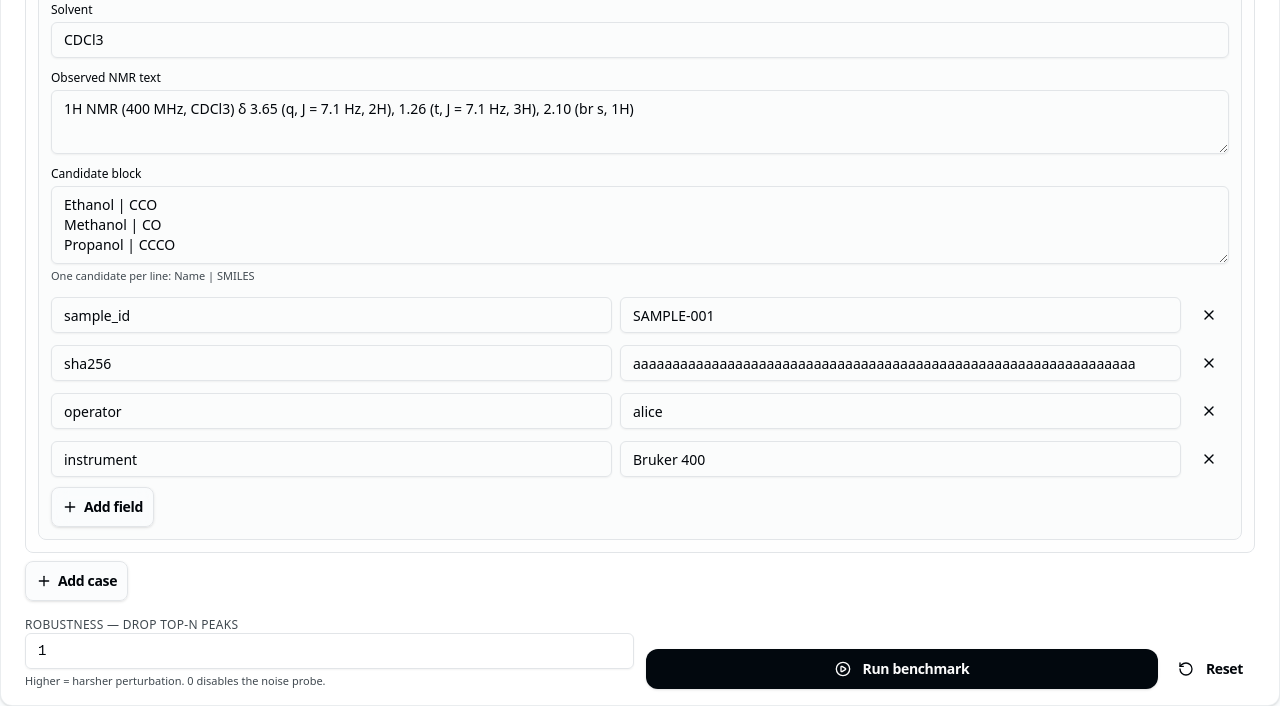
Test case: SpectraCheckBenchmarkSection › surfaces backend errors via the error alert
The width and height of the screenshot is (1280, 706).
(page scrolled)
Click the button with test id "benchmark-run-button" at [902, 669], box [646,649,1158,689]
(page scrolled)
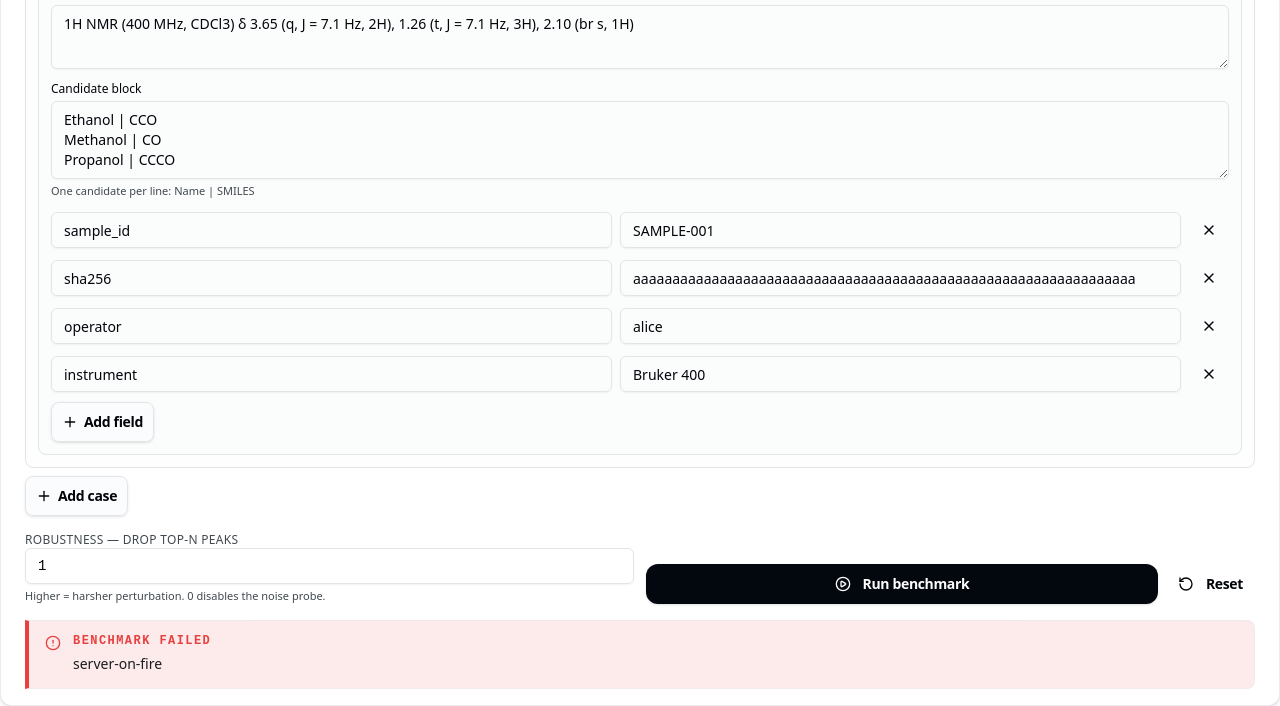
expect the text "server-on-fire" is shown: met, box [73,654,162,673]
